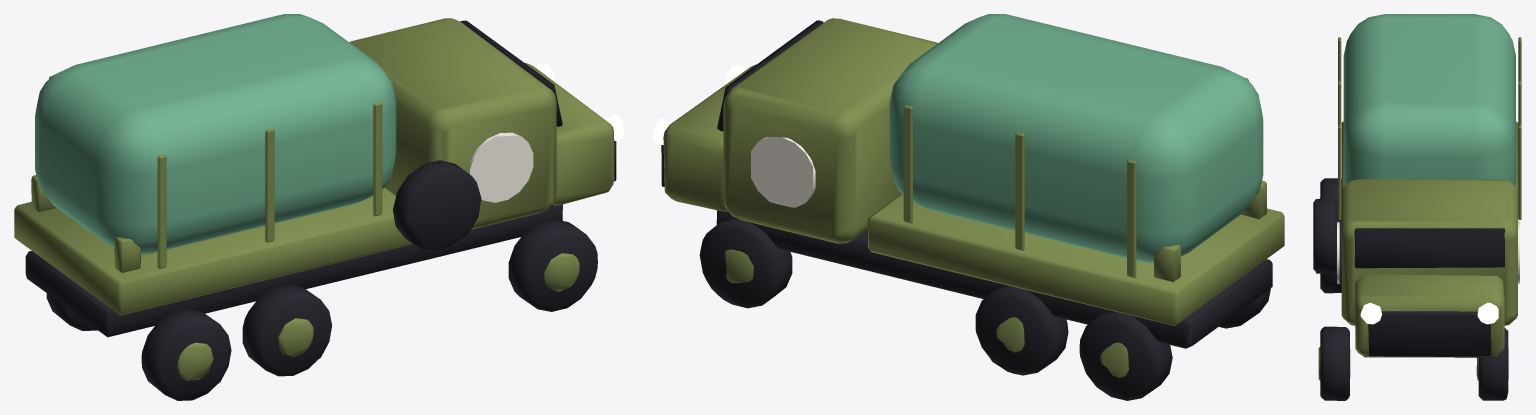
The model's file is army_truck.glb.
3 views of the same model, side by side, from view 1: azimuth 30°, elevation 25°; view 2: azimuth 150°, elevation 25°; view 3: azimuth 270°, elevation 25° (orthographic). The views are drawn at different scales.
Parts seen in each view (by area): view 1: army_truck; view 2: army_truck; view 3: army_truck.
Boxes of the visible parts, bbox=[...] form: army_truck: bbox=[14, 14, 624, 400]; army_truck: bbox=[653, 14, 1284, 400]; army_truck: bbox=[1313, 14, 1521, 400].
Bounding box in the file's own units: 7.21 × 3.59 × 3.03.
1 material, 1 textured.
